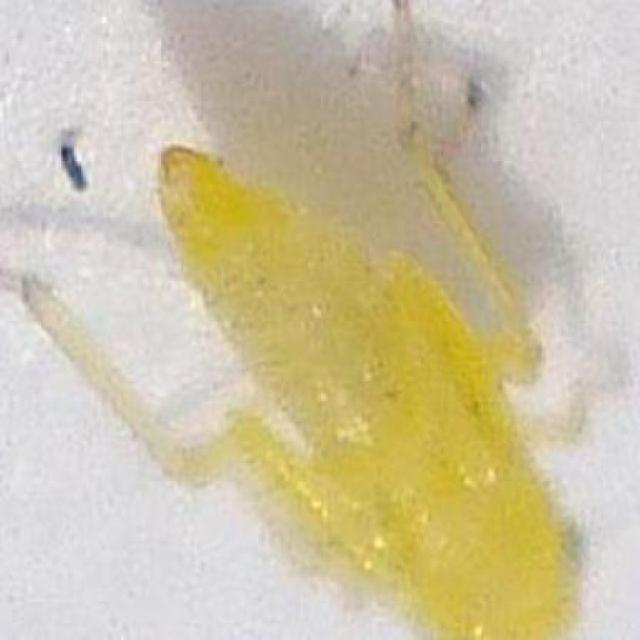green-leafhopper: (139, 134, 590, 640)
